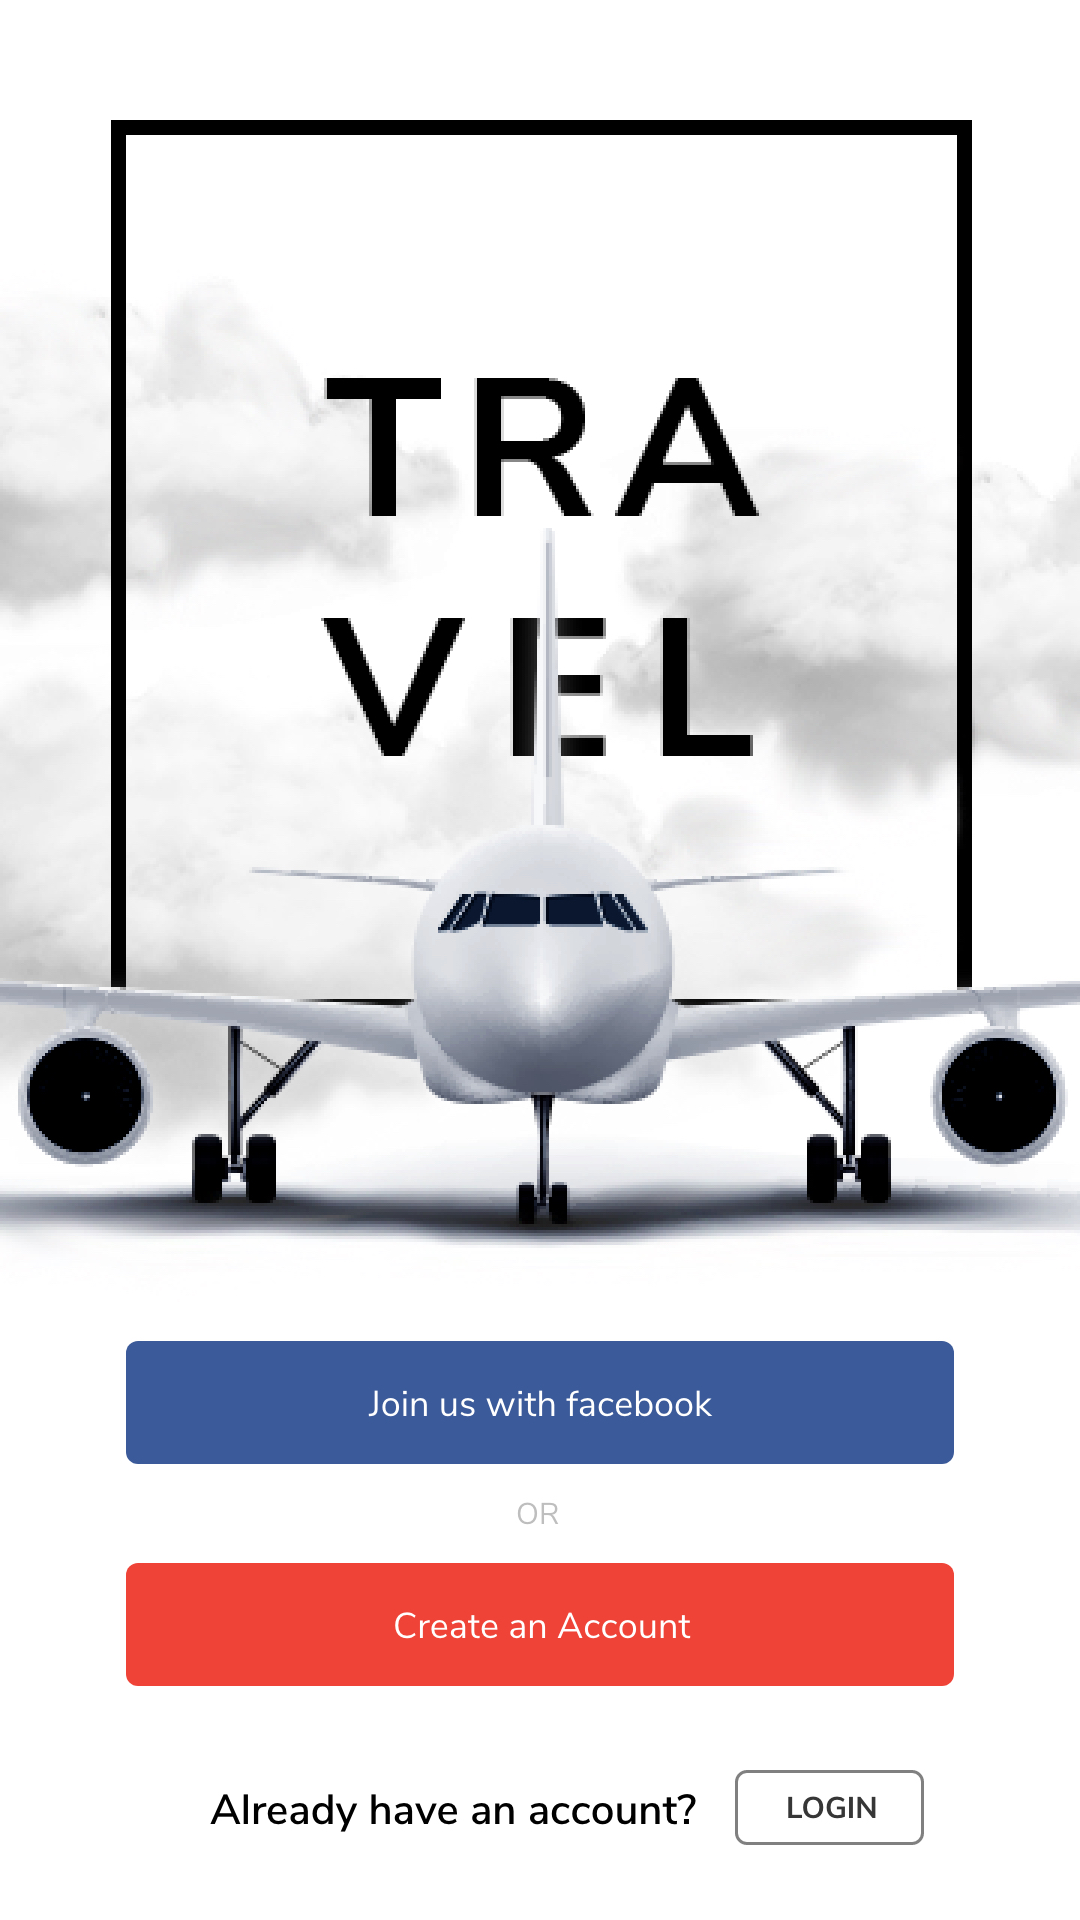Image: (1, 120, 1080, 1241)
Text: (210, 1793, 698, 1832), (518, 1502, 560, 1526)
TextButton: (127, 1341, 955, 1465), (127, 1563, 955, 1687), (735, 1768, 924, 1845)
